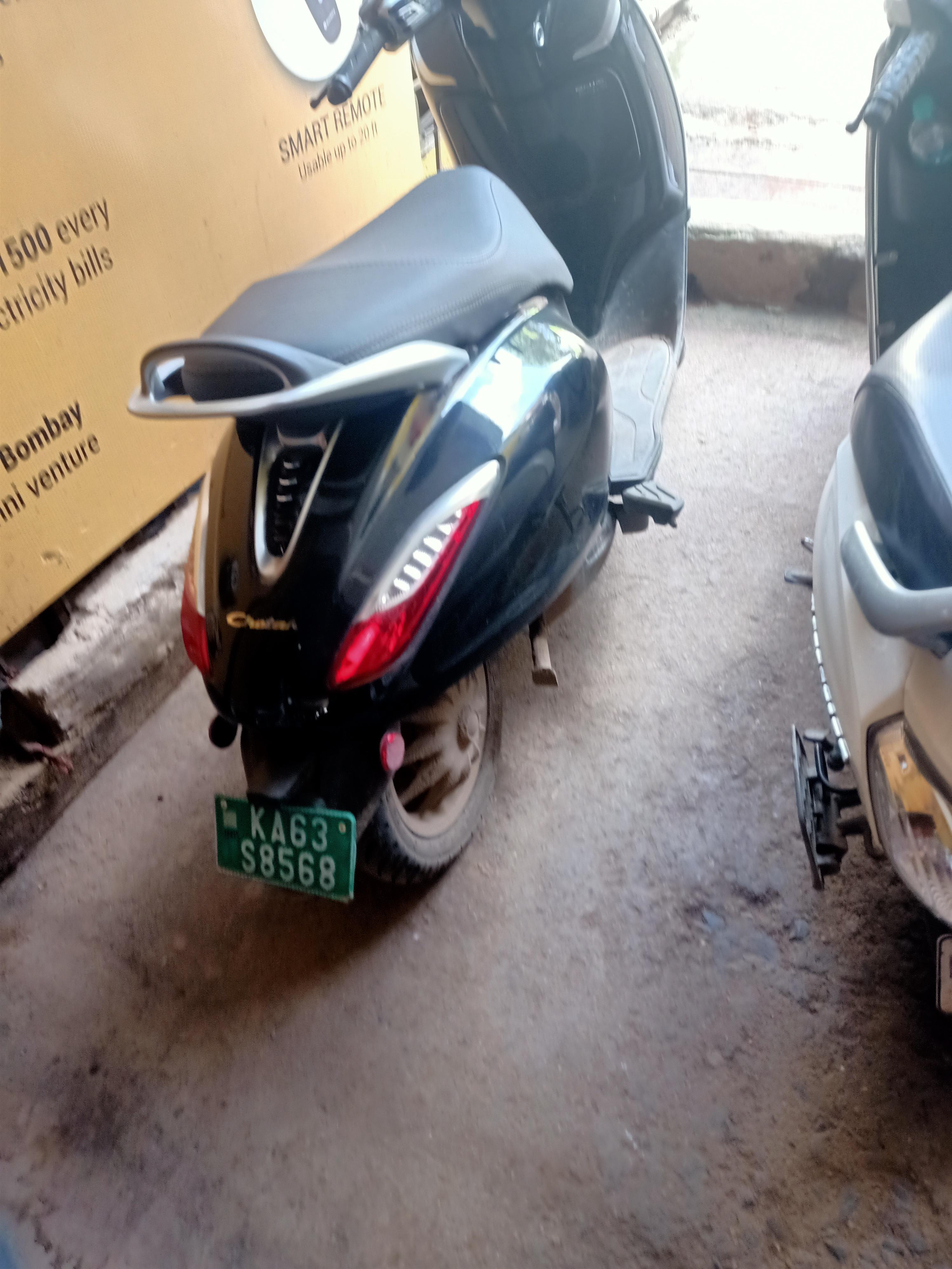green license plate: (207, 790, 363, 911)
